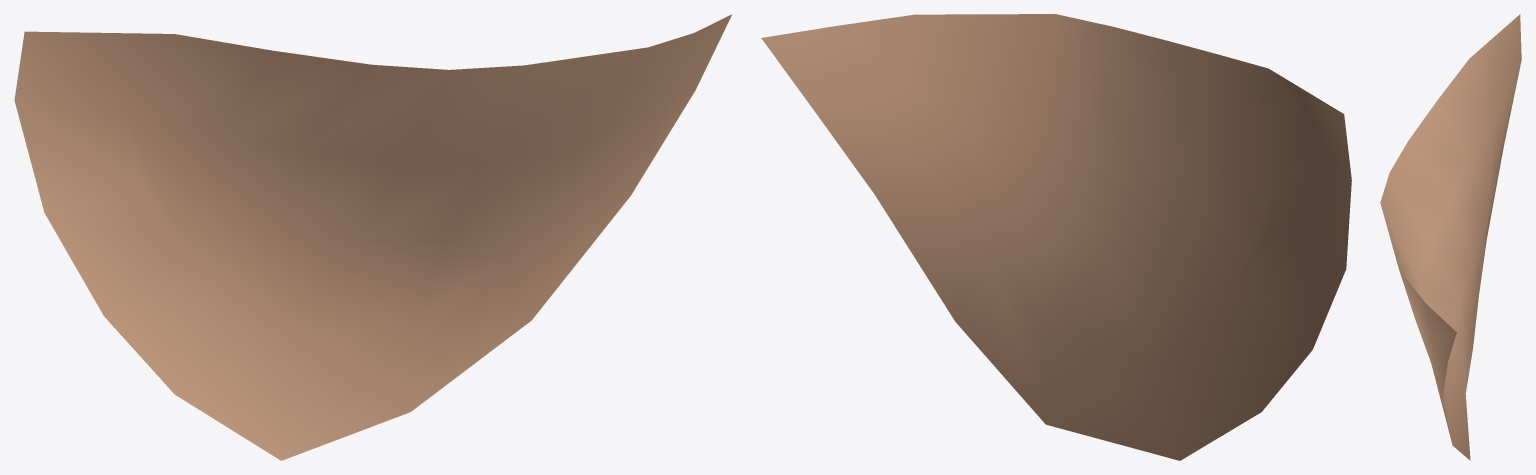
The model's file is cubital-fossa-r.glb.
The picture shows the model from 3 angles, left to right: view 1: azimuth 30°, elevation 25°; view 2: azimuth 150°, elevation 25°; view 3: azimuth 270°, elevation 25°; orthographic projection. The views are drawn at different scales.
Visible parts, largest first — view 1: Cubital fossa.r; view 2: Cubital fossa.r; view 3: Cubital fossa.r.
Boxes of the visible parts, <box> form: Cubital fossa.r: <box>14,14,731,460</box>; Cubital fossa.r: <box>761,14,1351,460</box>; Cubital fossa.r: <box>1380,14,1521,460</box>.
Bounding box in the file's own units: 0.0457 × 0.0293 × 0.0114.
